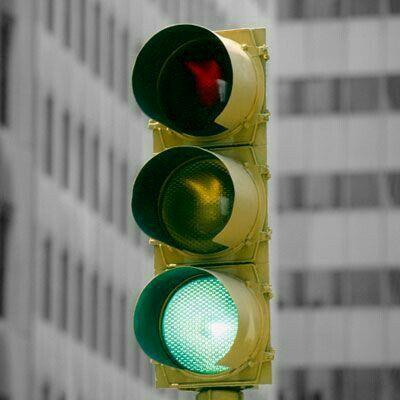Traffic light green: (97, 12, 289, 397)
